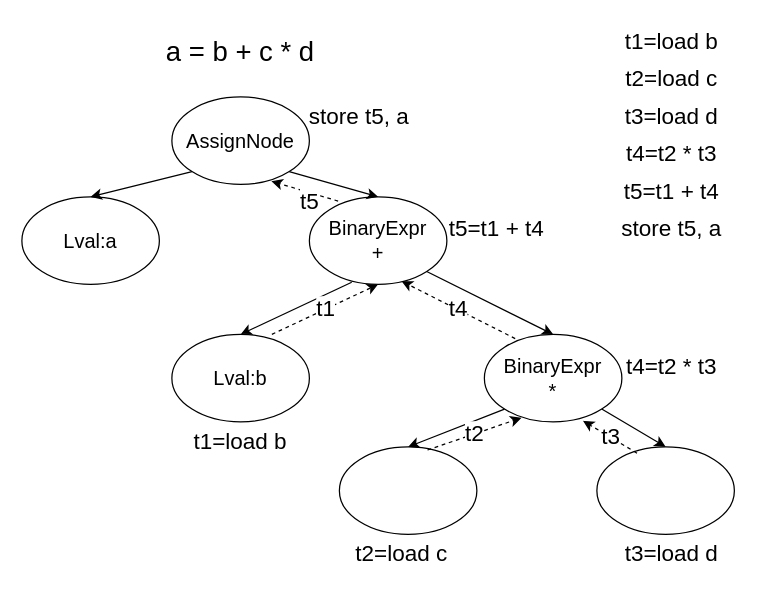
Some shapes in this 769 by 593 pixel diagram are drawn without their labels. Here are the shapes that lost their labels. From the top down, the centre of each, then its label:
point (407, 490): Lval:c
point (665, 490): Lval:d
